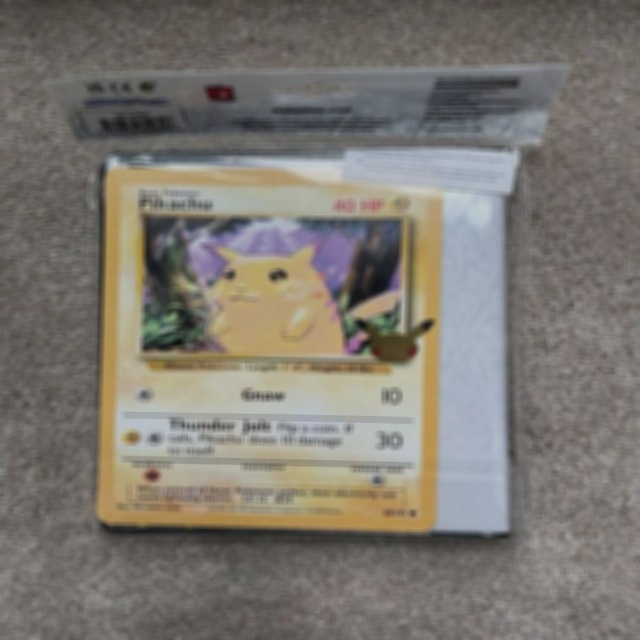card: (96, 167, 444, 532)
